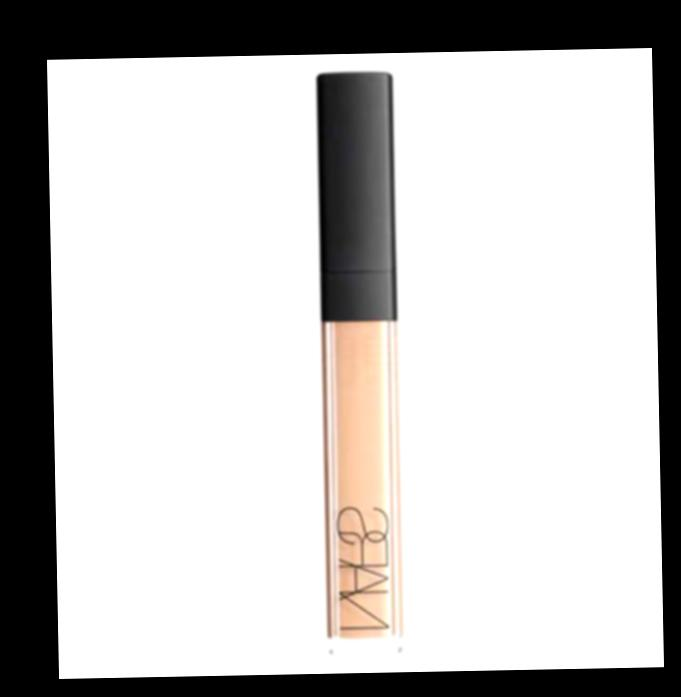cosmetic: (312, 72, 403, 658)
